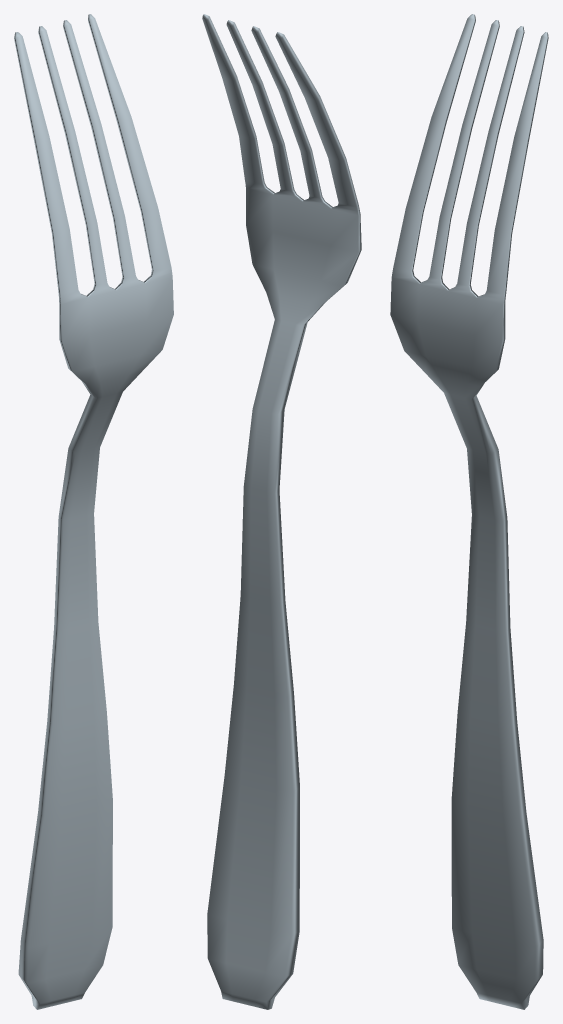
File: Fork.fbx
The picture shows the model from 3 angles, left to right: view 1: azimuth 30°, elevation 25°; view 2: azimuth 150°, elevation 25°; view 3: azimuth 330°, elevation 25°; orthographic projection.
Parts seen in each view (by area): view 1: Fork; view 2: Fork; view 3: Fork.
Part boxes in pixels (x1,y1,x2,y2): Fork: (14, 14, 173, 1009); Fork: (202, 14, 361, 1009); Fork: (390, 14, 548, 1009).
Bounding box in the file's own units: 26.35 × 26.72 × 221.
